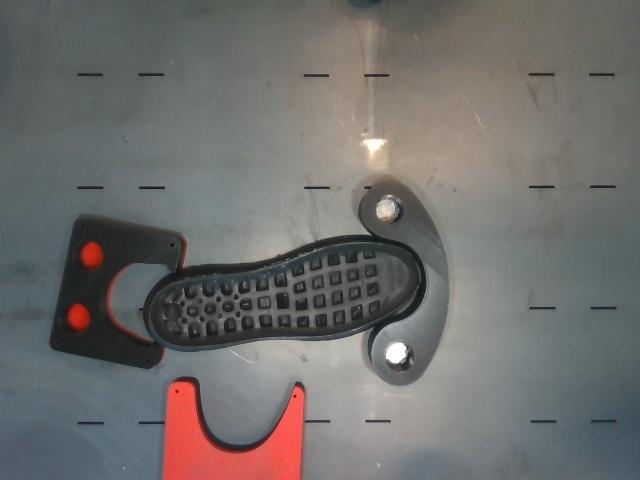shoes: (150, 243, 419, 346)
